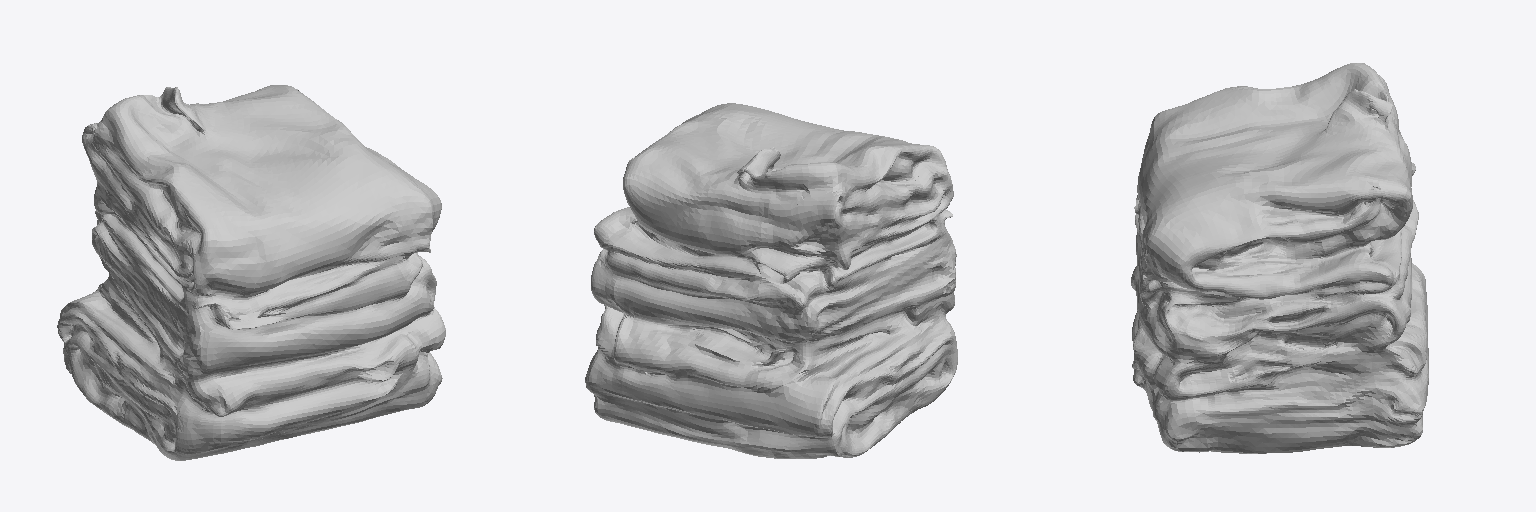
The model's file is clothes rs gb.obj.
The picture shows the model from 3 angles: view 1: azimuth 30°, elevation 25°; view 2: azimuth 150°, elevation 25°; view 3: azimuth 270°, elevation 25°; orthographic projection.
Parts seen in each view (by area): view 1: Mesh0; view 2: Mesh0; view 3: Mesh0.
Boxes of the visible parts, box(x1,y1,x2,y2) form: Mesh0: box(57, 85, 445, 460); Mesh0: box(585, 103, 957, 458); Mesh0: box(1131, 63, 1428, 453).
Bounding box in the file's own units: 1.92 × 1.98 × 1.84.